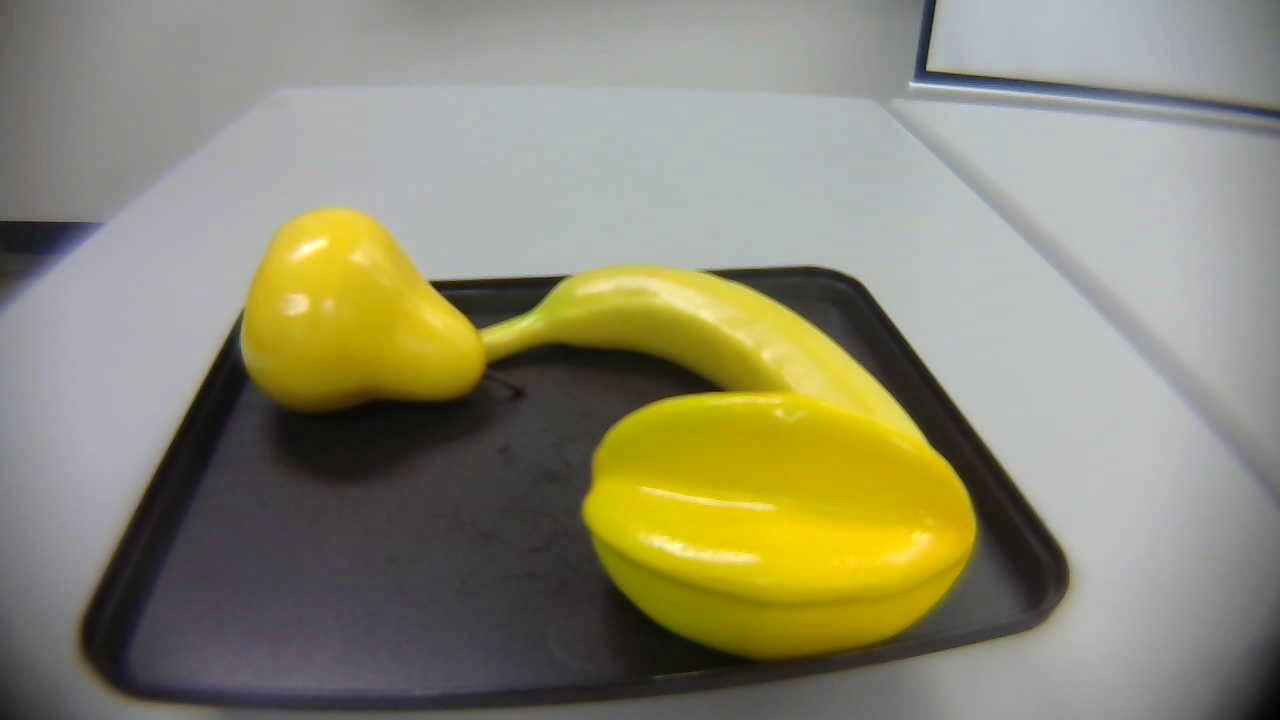banana: (476, 260, 940, 484)
star fruit: (579, 386, 979, 661)
yellow pear: (235, 202, 545, 425)
